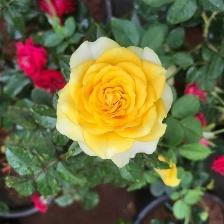rose: (62, 46, 173, 156)
